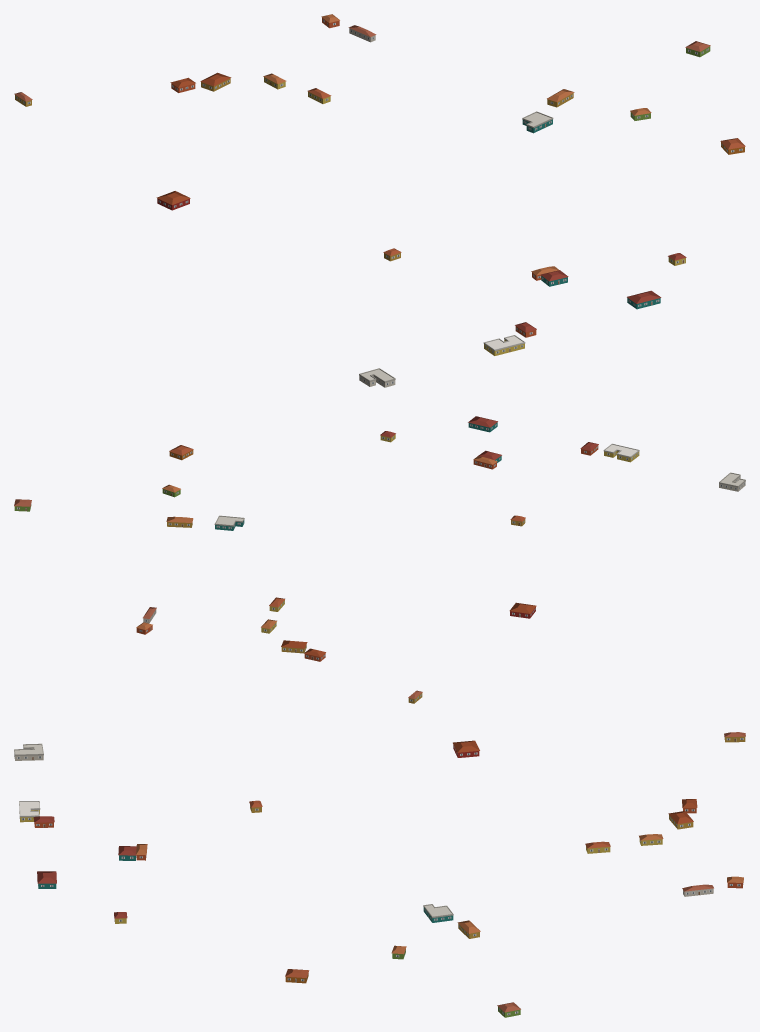
The model's file is msb_noord_m11_m6.glb.
3 views of the same model, one above another, from view 1: azimuth 30°, elevation 25°; view 2: azimuth 150°, elevation 25°; view 3: azimuth 270°, elevation 25° (orthographic). The views are drawn at different scales.
Parts seen in each view (by area): view 1: msb_noord_m11_m6_lod0; view 2: msb_noord_m11_m6_lod0; view 3: msb_noord_m11_m6_lod0.
Boxes of the visible parts, x1,y1,x2,y2 form: msb_noord_m11_m6_lod0: [14, 14, 745, 387]; msb_noord_m11_m6_lod0: [14, 416, 745, 703]; msb_noord_m11_m6_lod0: [14, 732, 745, 1017].
Size of what is drawn, in the model's own units: 376 by 17.23 by 411.
Materials: 3 (1 with a texture image).
